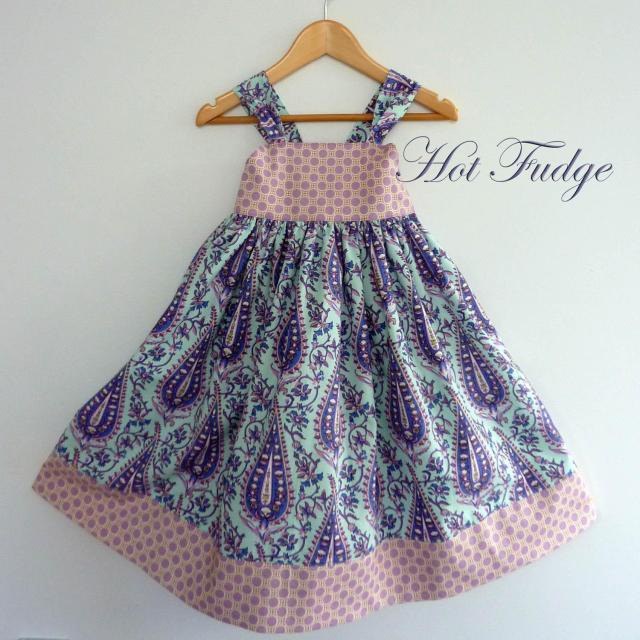Dress: (23, 70, 600, 633)
